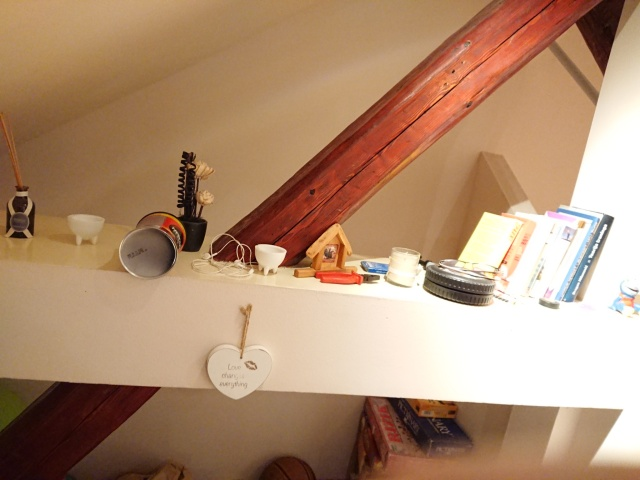Nescafe Classic 225g: (116, 209, 188, 281)
